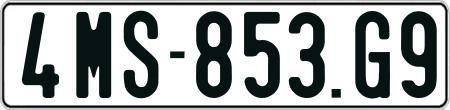3: (287, 10, 327, 100)
4: (22, 9, 61, 99)
5: (243, 9, 284, 100)
8: (196, 8, 234, 96)
9: (398, 11, 430, 98)
G: (355, 8, 395, 97)
M: (73, 9, 108, 100)
S: (123, 11, 157, 99)
